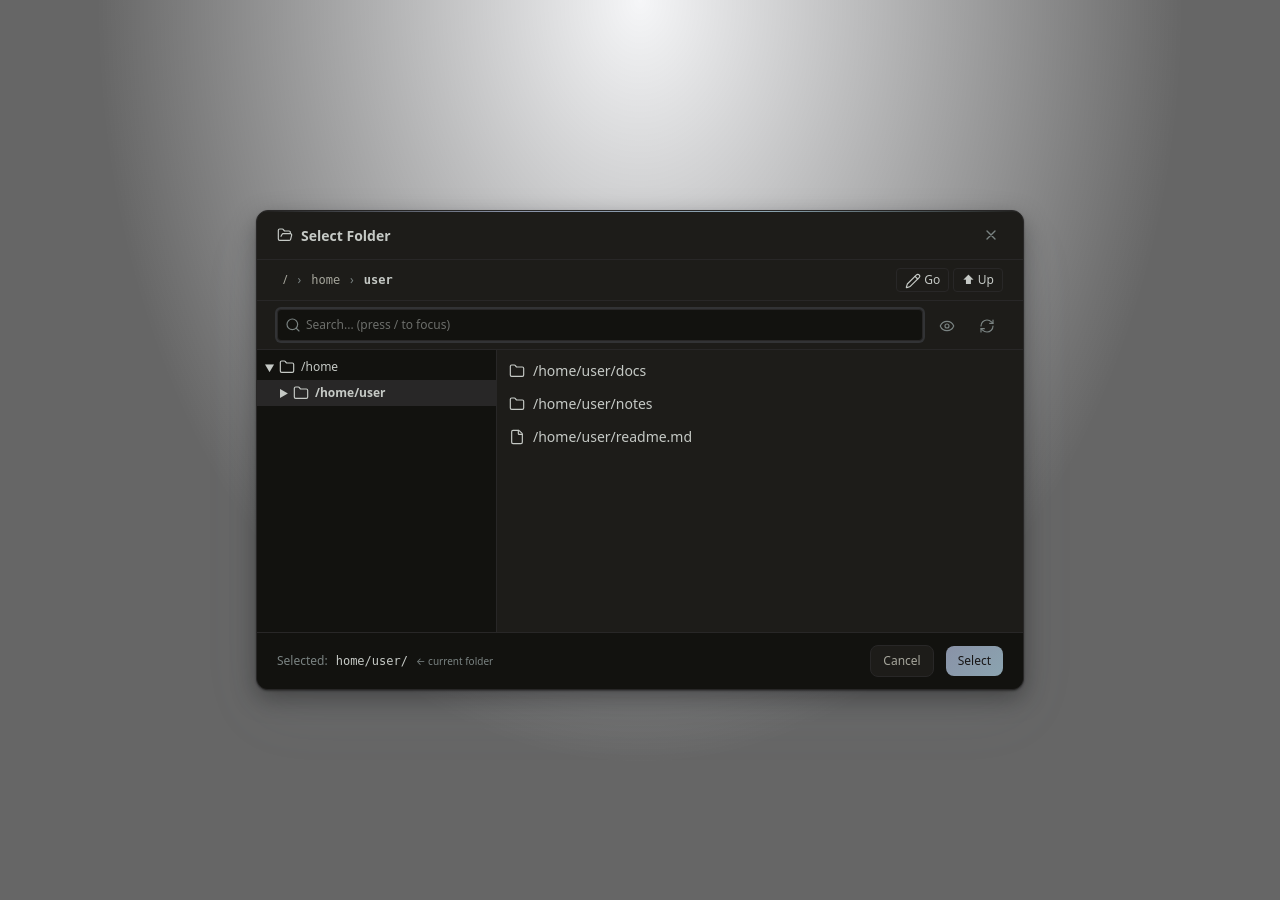
it: FilePickerDialog — content rendering › toggles hidden files via the toolbar button
Click the button with test id "file-picker-hidden-toggle".
click(947, 325)  # box [931,312,963,338]
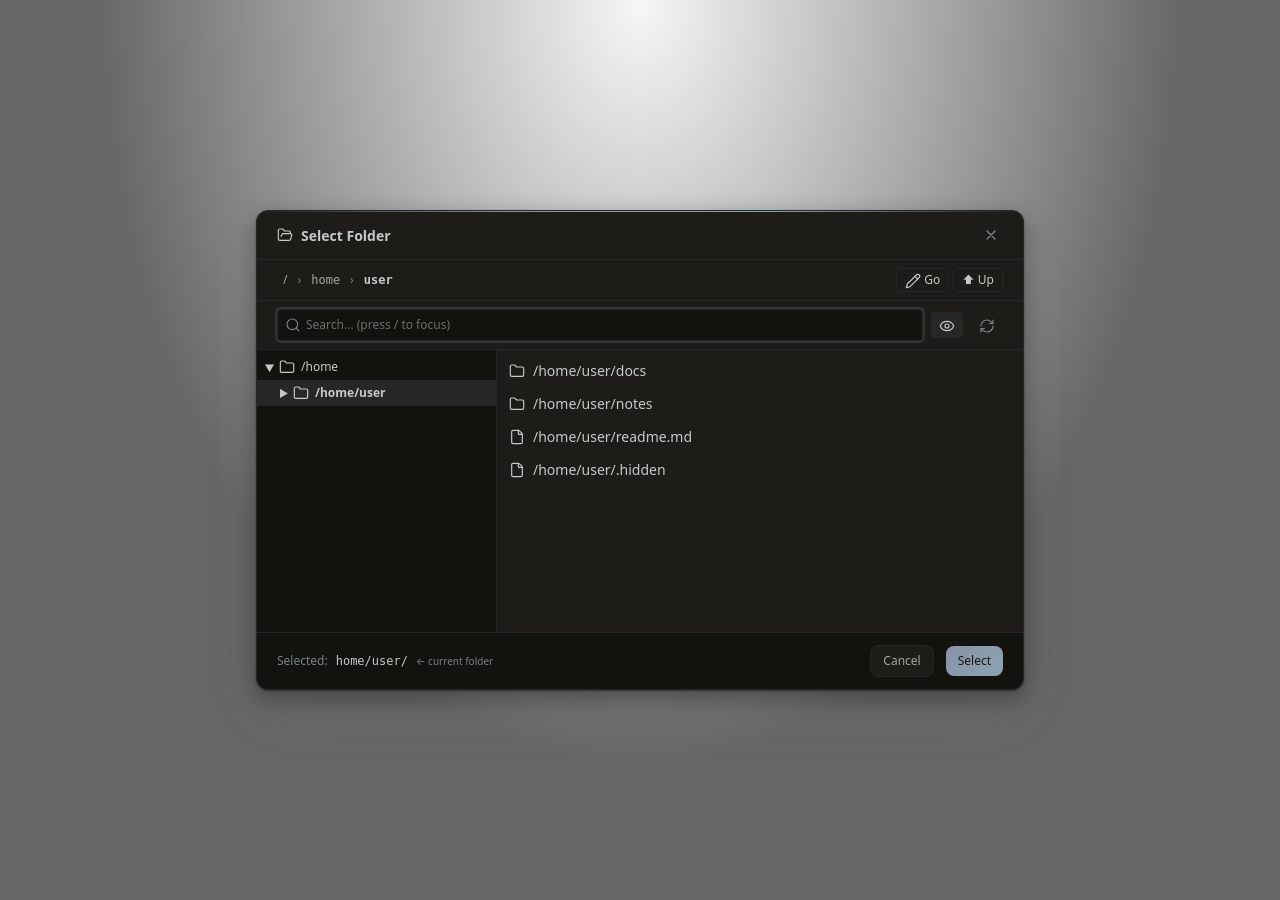
Check: the button with test id "file-picker-item-/home/user/.hidden" is shown, box [497,453,1023,486]
Click the button with test id "file-picker-hidden-toggle".
click(947, 325)  # box [931,312,963,338]
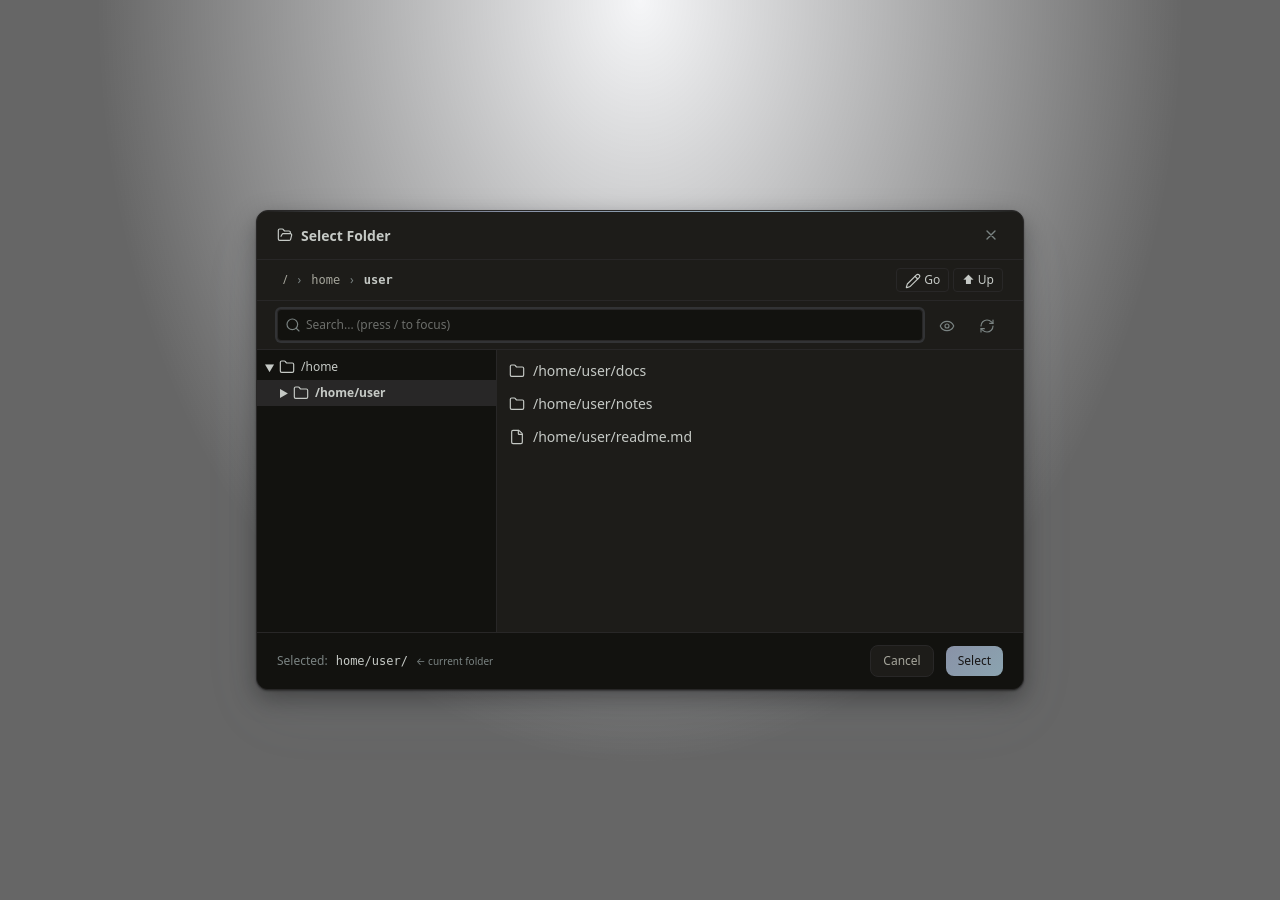
Check: the button with test id "file-picker-item-/home/user/.hidden" is gone
